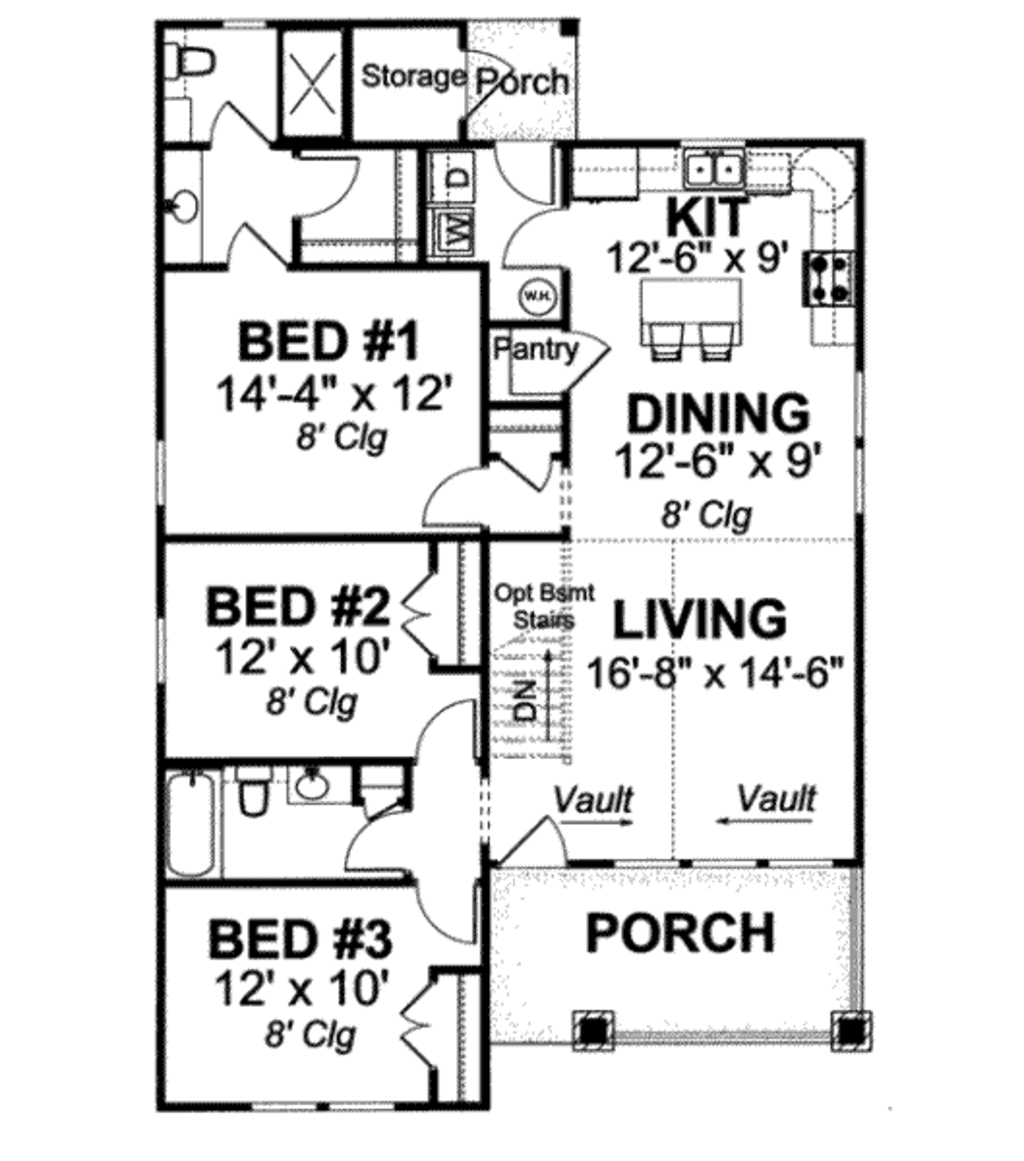door: (410, 870, 489, 949), (391, 565, 455, 658), (484, 806, 576, 869), (489, 137, 566, 210), (339, 810, 418, 876), (418, 461, 487, 535), (453, 49, 519, 122), (294, 153, 359, 226), (494, 208, 566, 269), (202, 97, 275, 156), (228, 215, 294, 279), (398, 976, 443, 1069), (418, 699, 478, 763), (496, 447, 560, 504), (569, 326, 616, 392)
kitchen_bar: (637, 269, 757, 381)
large_sink: (157, 35, 228, 85), (232, 756, 271, 815)
small_sink: (162, 165, 202, 251), (285, 767, 344, 797)
stairs: (478, 538, 585, 772)
tub: (169, 767, 230, 881)
twin_sink: (655, 138, 766, 194)
window: (251, 1090, 400, 1115), (848, 374, 869, 519), (153, 429, 184, 515), (146, 613, 175, 692), (619, 858, 835, 865)
